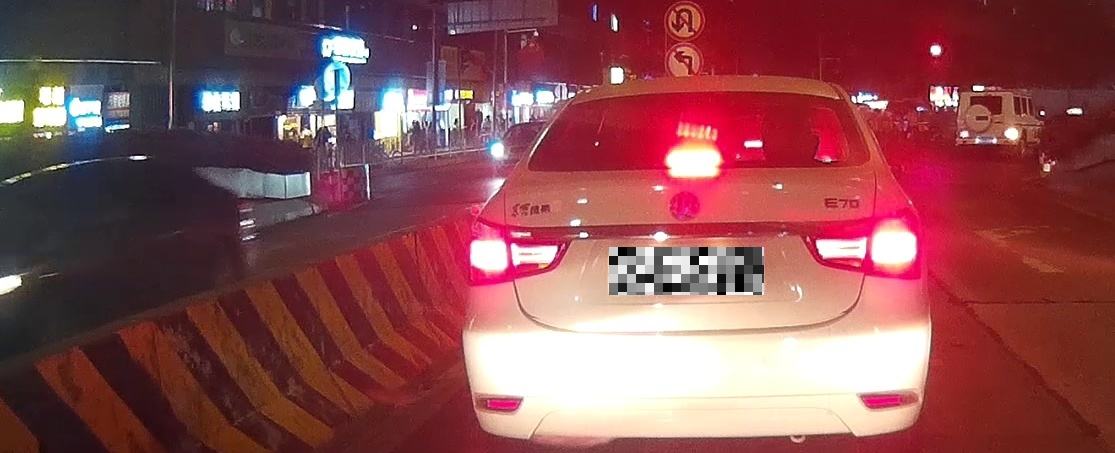L_light: (466, 215, 573, 287), (959, 130, 969, 138)
R_light: (798, 207, 925, 281), (1004, 127, 1018, 140)
T_light: (664, 149, 722, 168), (982, 96, 991, 98)
night-brake: (462, 76, 931, 450)
night-right: (955, 92, 1019, 156)
plate_1: (609, 247, 764, 295)
